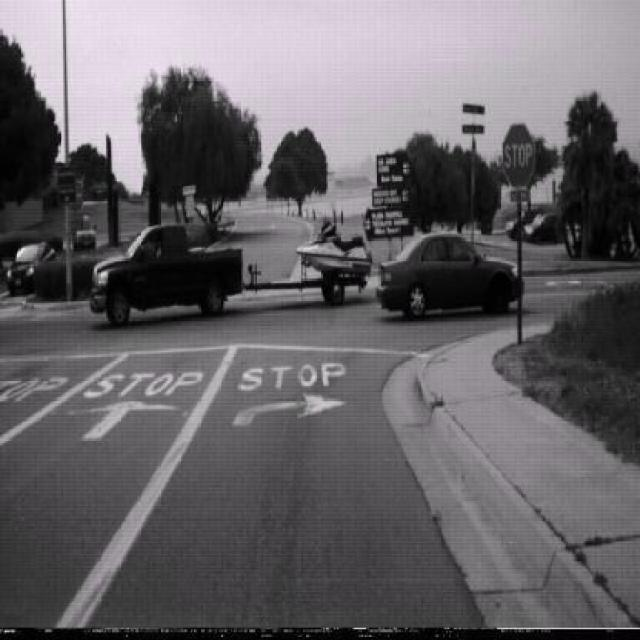stop: (502, 122, 534, 190)
